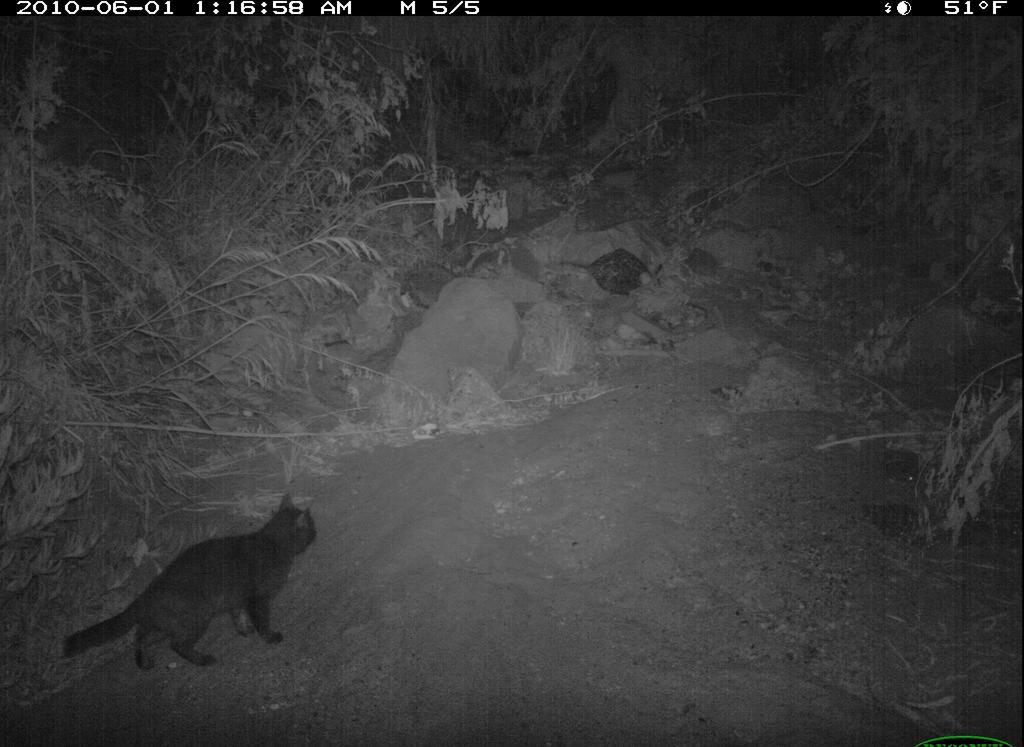cat: (56, 483, 344, 681)
